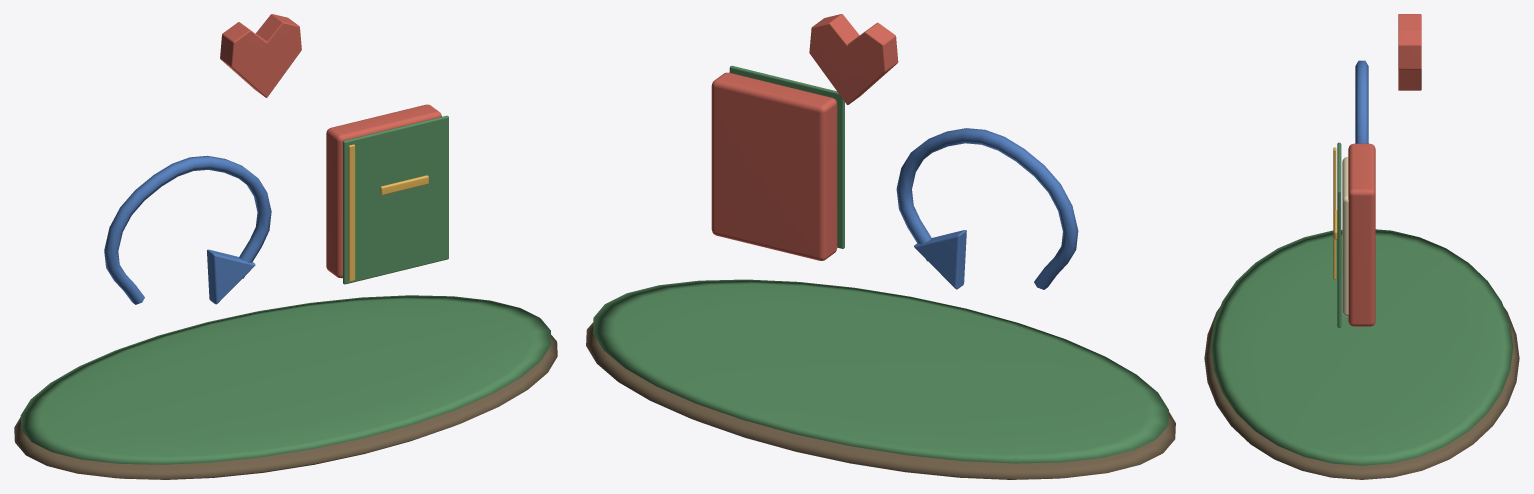
File: complete-third-returning-memory.glb
3 views of the same model, side by side, from view 1: azimuth 30°, elevation 25°; view 2: azimuth 150°, elevation 25°; view 3: azimuth 270°, elevation 25° (orthographic). The views are drawn at different scales.
Visible parts, largest first — view 1: complete-third-returning-memory_surface_01, complete-third-returning-memory_surface_00, complete-third-returning-memory_surface_03, complete-third-returning-memory_surface_02, complete-third-returning-memory_surface_05; view 2: complete-third-returning-memory_surface_01, complete-third-returning-memory_surface_03, complete-third-returning-memory_surface_00, complete-third-returning-memory_surface_02; view 3: complete-third-returning-memory_surface_01, complete-third-returning-memory_surface_03, complete-third-returning-memory_surface_00, complete-third-returning-memory_surface_02, complete-third-returning-memory_surface_04, complete-third-returning-memory_surface_05.
Boxes of the visible parts, x1,y1,x2,y2 form: complete-third-returning-memory_surface_01: [20, 115, 551, 464]; complete-third-returning-memory_surface_00: [14, 335, 557, 479]; complete-third-returning-memory_surface_03: [220, 14, 441, 278]; complete-third-returning-memory_surface_02: [104, 155, 271, 304]; complete-third-returning-memory_surface_05: [348, 144, 428, 281]; complete-third-returning-memory_surface_01: [593, 65, 1168, 463]; complete-third-returning-memory_surface_03: [711, 14, 898, 260]; complete-third-returning-memory_surface_00: [586, 322, 1175, 479]; complete-third-returning-memory_surface_02: [896, 128, 1078, 289]; complete-third-returning-memory_surface_01: [1210, 142, 1513, 465]; complete-third-returning-memory_surface_03: [1348, 14, 1421, 326]; complete-third-returning-memory_surface_00: [1204, 307, 1519, 479]; complete-third-returning-memory_surface_02: [1355, 60, 1368, 143]; complete-third-returning-memory_surface_04: [1342, 157, 1348, 316]; complete-third-returning-memory_surface_05: [1333, 147, 1337, 279].
Size of the model in its own units: 4.56 by 3.07 by 2.5.
